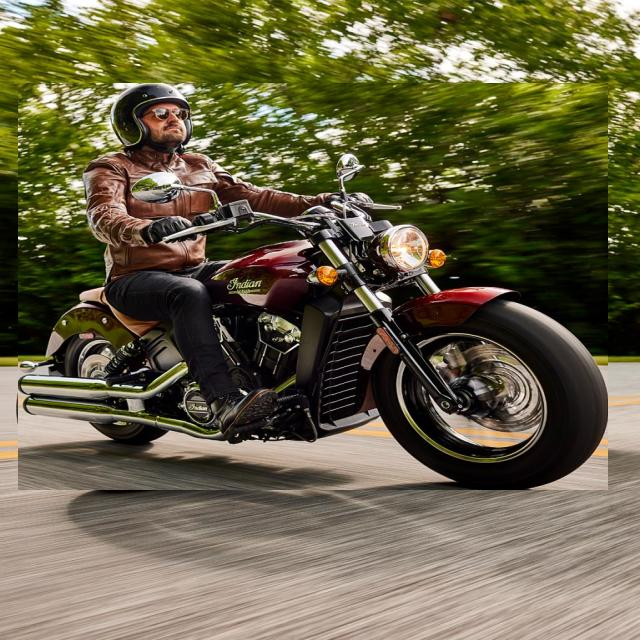motorcycle: (18, 83, 607, 490)
